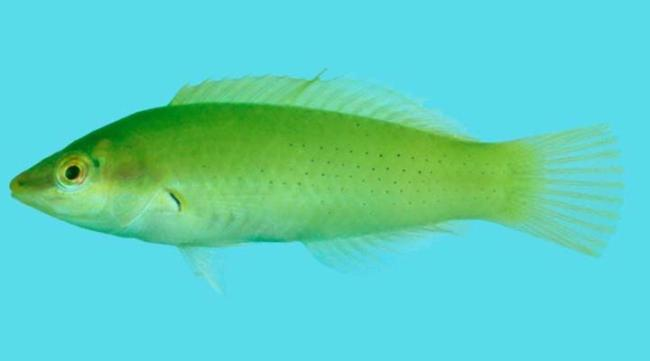fish: (9, 67, 624, 296)
